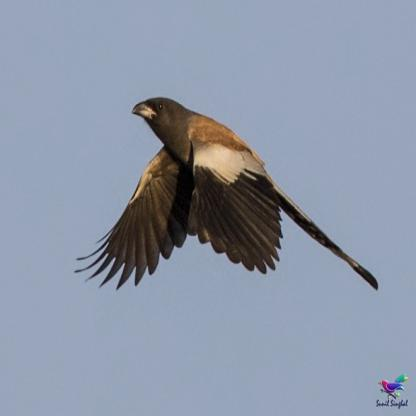Burung: (76, 97, 378, 290)
